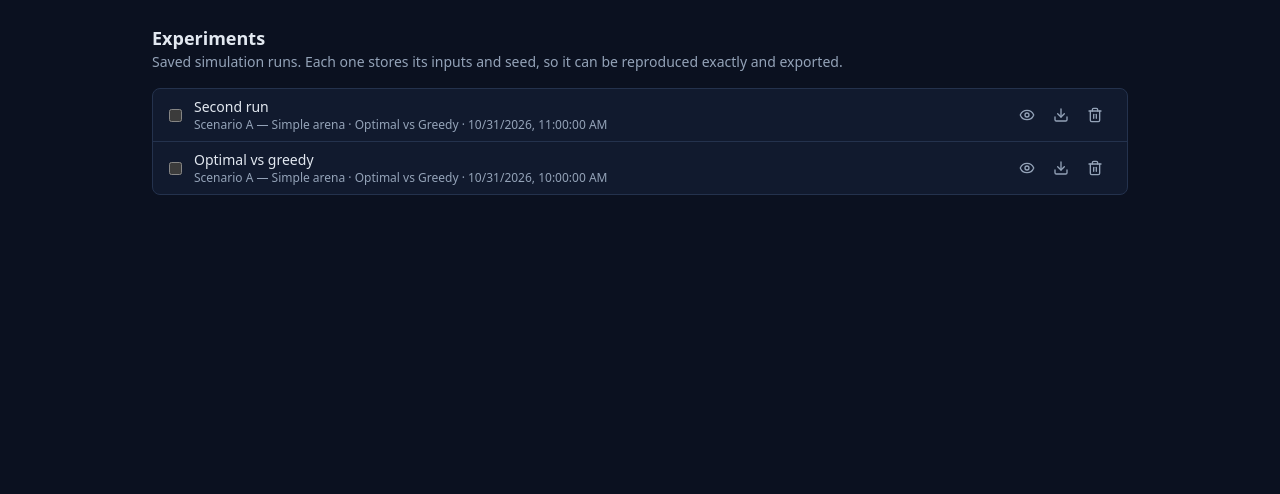
ExperimentsPage › reports when a re-run gives different results
Click the button named "View Optimal vs greedy" at (1027, 168), box [1011,152,1043,184]
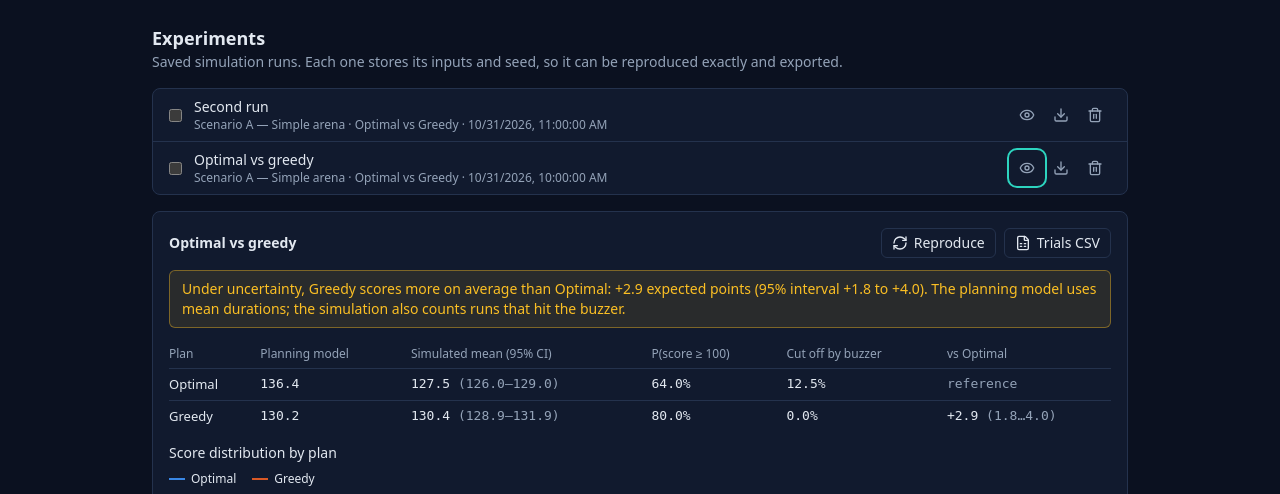
Click the button "Reproduce" at (938, 243), box [881,228,996,258]
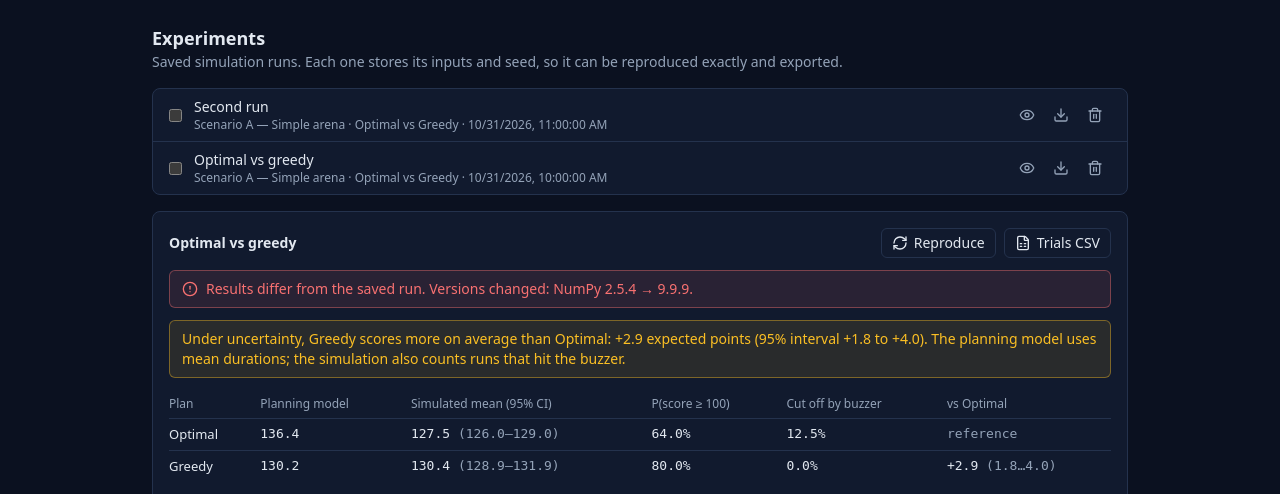
Expected: the message reads "Results differ from the saved run. Versions changed: NumPy 2.5.4 → 9.9.9.", [169,270,1111,308]
